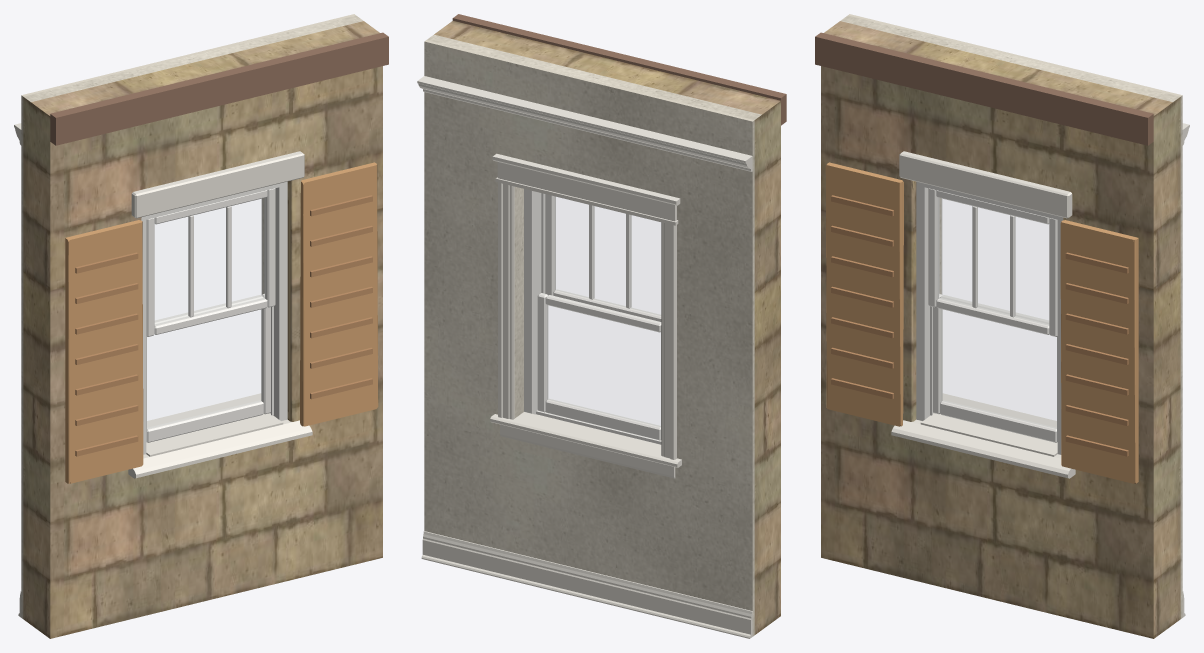
Rendered from wall_stone_window.glb.
The picture shows the model from 3 angles, left to right: view 1: azimuth 30°, elevation 25°; view 2: azimuth 150°, elevation 25°; view 3: azimuth 330°, elevation 25°; orthographic projection.
Parts seen in each view (by area): view 1: wall_stone_window_stone2, wall_stone_window_shutter, wall_stone_window_timber, folha_glass, wall_stone_window_glass, wall_stone_window_trim, wall_stone_window_shutter_dark, wall_stone_window_sash, wall_stone_window_frame, wall_stone_window_plaster, folha_sash, molduras; view 2: wall_stone_window_plaster, molduras, wall_stone_window_stone2, folha_glass, wall_stone_window_glass, folha_sash, wall_stone_window_frame, wall_stone_window_timber, wall_stone_window_sash; view 3: wall_stone_window_stone2, wall_stone_window_shutter, wall_stone_window_timber, folha_glass, wall_stone_window_trim, wall_stone_window_glass, wall_stone_window_shutter_dark, wall_stone_window_sash, wall_stone_window_frame, wall_stone_window_plaster, folha_sash, molduras.
Boxes of the visible parts, x1=… form: wall_stone_window_stone2: x1=23, y1=21, x2=382, y2=638; wall_stone_window_shutter: x1=65, y1=162, x2=378, y2=483; wall_stone_window_timber: x1=50, y1=32, x2=388, y2=145; folha_glass: x1=147, y1=310, x2=261, y2=428; wall_stone_window_glass: x1=155, y1=198, x2=265, y2=324; wall_stone_window_trim: x1=128, y1=151, x2=312, y2=478; wall_stone_window_shutter_dark: x1=75, y1=195, x2=372, y2=456; wall_stone_window_sash: x1=146, y1=188, x2=275, y2=336; wall_stone_window_frame: x1=141, y1=181, x2=287, y2=454; wall_stone_window_plaster: x1=21, y1=14, x2=363, y2=618; folha_sash: x1=146, y1=293, x2=270, y2=442; molduras: x1=14, y1=123, x2=262, y2=617; wall_stone_window_plaster: x1=424, y1=34, x2=761, y2=636; molduras: x1=417, y1=76, x2=752, y2=638; wall_stone_window_stone2: x1=434, y1=21, x2=780, y2=634; folha_glass: x1=547, y1=306, x2=660, y2=426; wall_stone_window_glass: x1=555, y1=197, x2=660, y2=315; folha_sash: x1=537, y1=293, x2=661, y2=440; wall_stone_window_frame: x1=524, y1=189, x2=661, y2=444; wall_stone_window_timber: x1=452, y1=14, x2=786, y2=125; wall_stone_window_sash: x1=545, y1=194, x2=661, y2=321; wall_stone_window_stone2: x1=821, y1=21, x2=1180, y2=638; wall_stone_window_shutter: x1=825, y1=162, x2=1138, y2=483; wall_stone_window_timber: x1=815, y1=32, x2=1153, y2=145; folha_glass: x1=942, y1=310, x2=1056, y2=428; wall_stone_window_trim: x1=891, y1=151, x2=1075, y2=478; wall_stone_window_glass: x1=938, y1=198, x2=1048, y2=324; wall_stone_window_shutter_dark: x1=831, y1=195, x2=1128, y2=456; wall_stone_window_sash: x1=928, y1=188, x2=1057, y2=336; wall_stone_window_frame: x1=916, y1=181, x2=1063, y2=454; wall_stone_window_plaster: x1=840, y1=14, x2=1182, y2=618; folha_sash: x1=933, y1=293, x2=1057, y2=442; molduras: x1=941, y1=123, x2=1189, y2=617.
Size of the model in its own units: 2 by 3.02 by 0.46.
9 materials, 2 textured.
